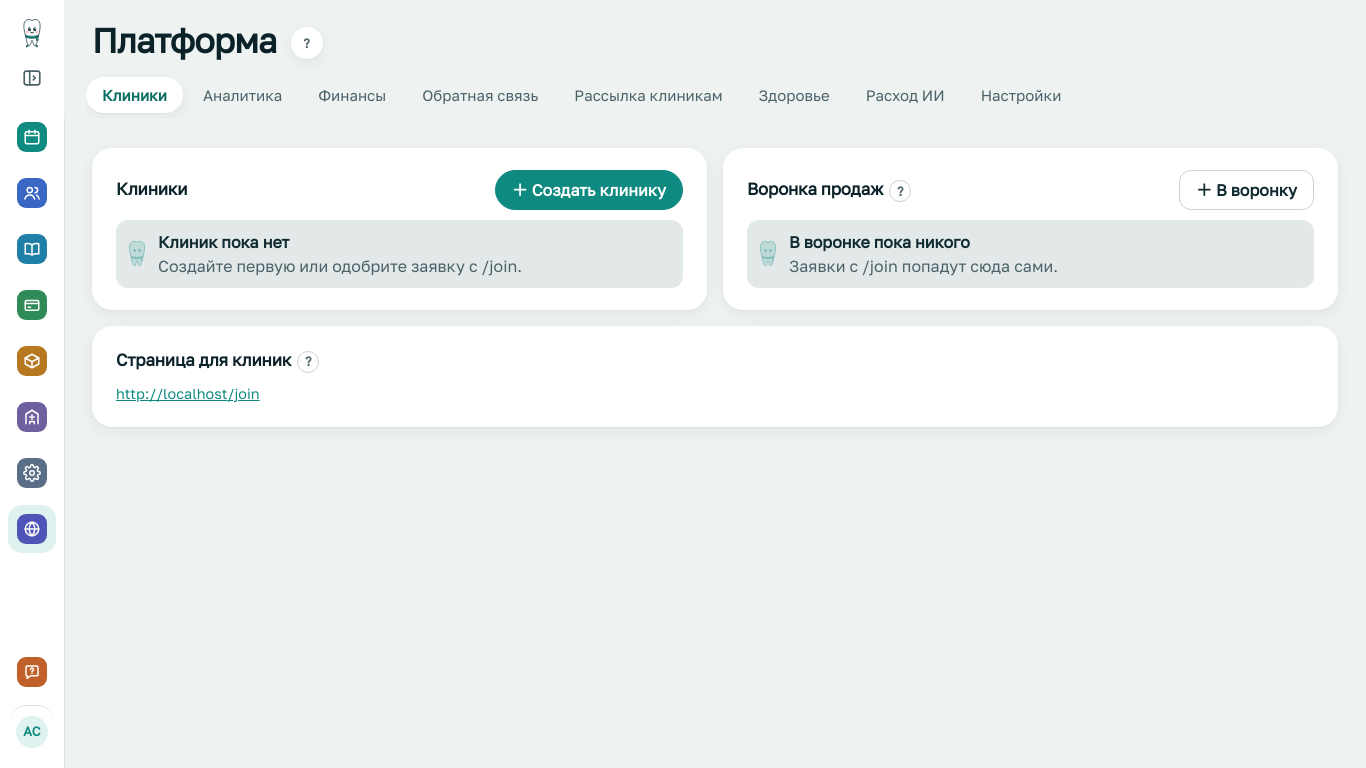
Test case: владелец: «Финансы» — итог, авто-расходы, доходы по клиникам, переключение месяца
Expected: the navigation bar named "Разделы" is shown, x1=8 y1=113 x2=56 y2=553
Click the link "Финансы": (352, 95) x1=318 y1=86 x2=386 y2=104
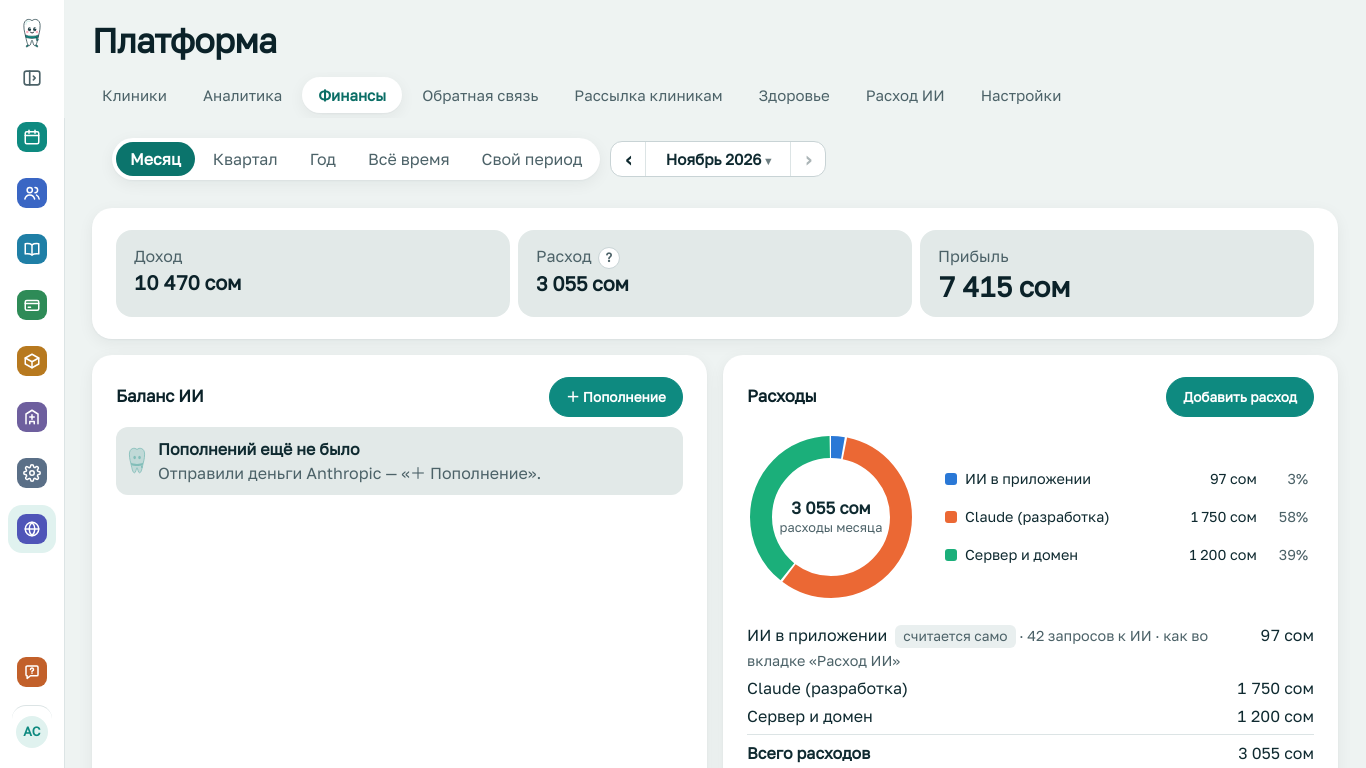
Now the text named "Доход за месяц" reads "10 470 сом", box x1=134 y1=270 x2=241 y2=294
Now the text named "Расход за месяц" reads "3 055 сом", box x1=536 y1=271 x2=629 y2=295
Now the text named "Прибыль за месяц" reads "7 415 сом", box x1=938 y1=270 x2=1070 y2=303
Click the button named "Предыдущий месяц": (628, 159) x1=612 y1=142 x2=646 y2=176
(page scrolled)
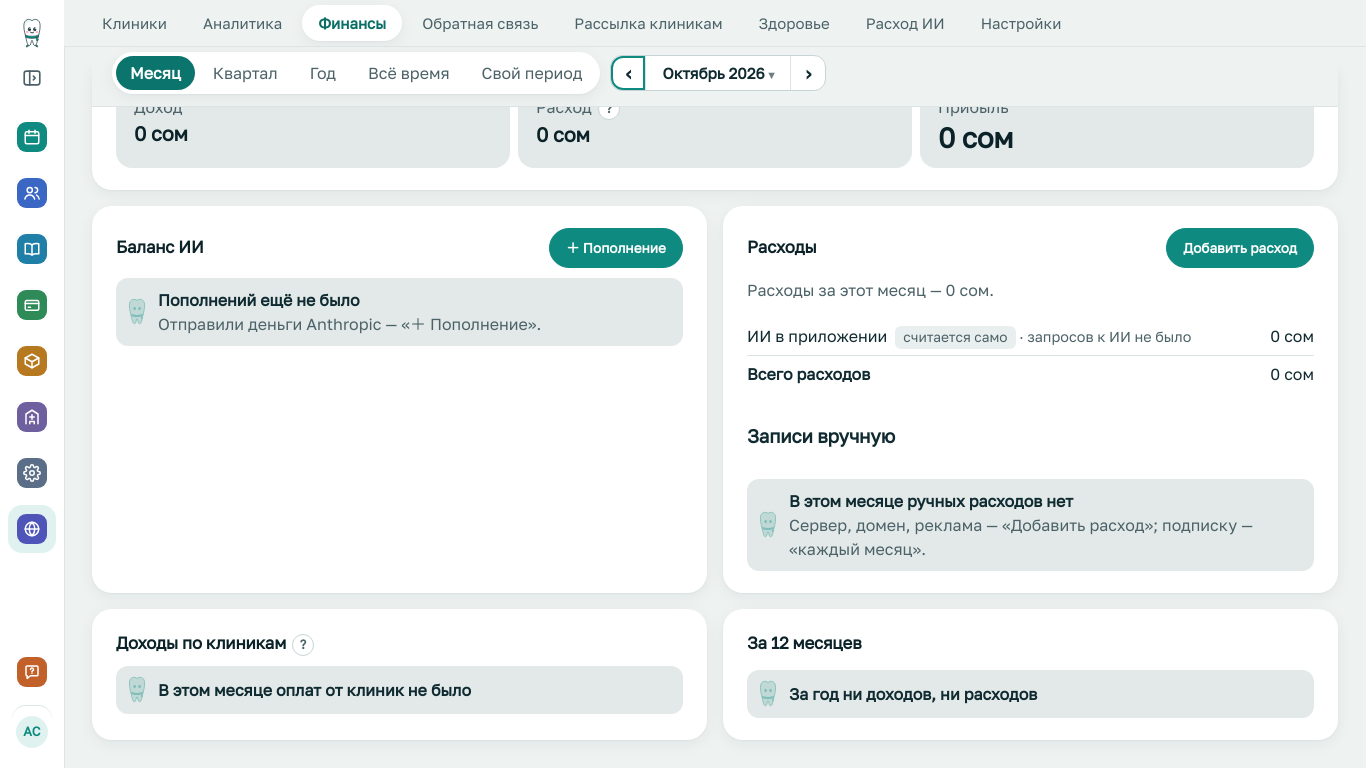
Now the text "В этом месяце оплат от клиник не было" is shown, box x1=158 y1=680 x2=471 y2=700
Now the text "В этом месяце ручных расходов нет" is shown, box x1=789 y1=491 x2=1073 y2=511
Now the text "За год ни доходов, ни расходов" is shown, box x1=789 y1=684 x2=1037 y2=704
